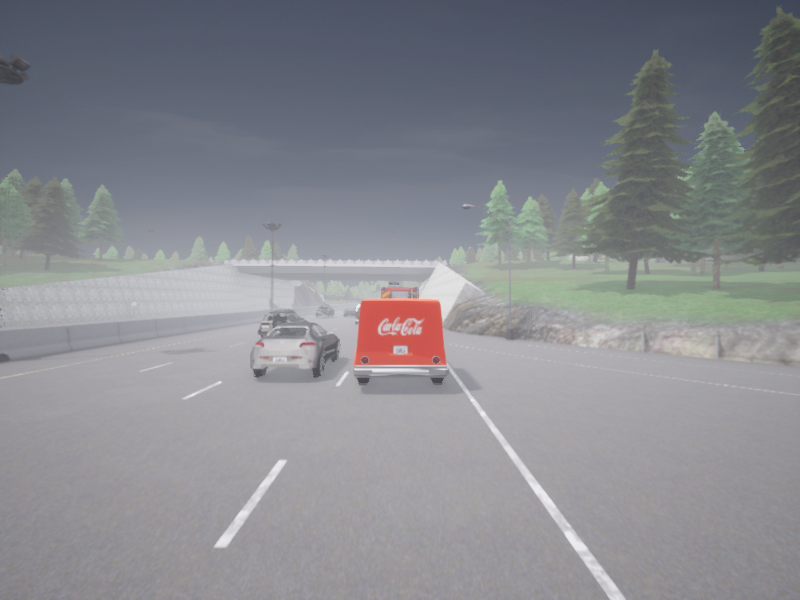vehicle: (353, 298, 448, 383), (250, 322, 338, 376), (258, 309, 307, 338), (381, 281, 418, 297), (316, 304, 334, 316), (344, 308, 356, 316), (355, 304, 360, 323)
